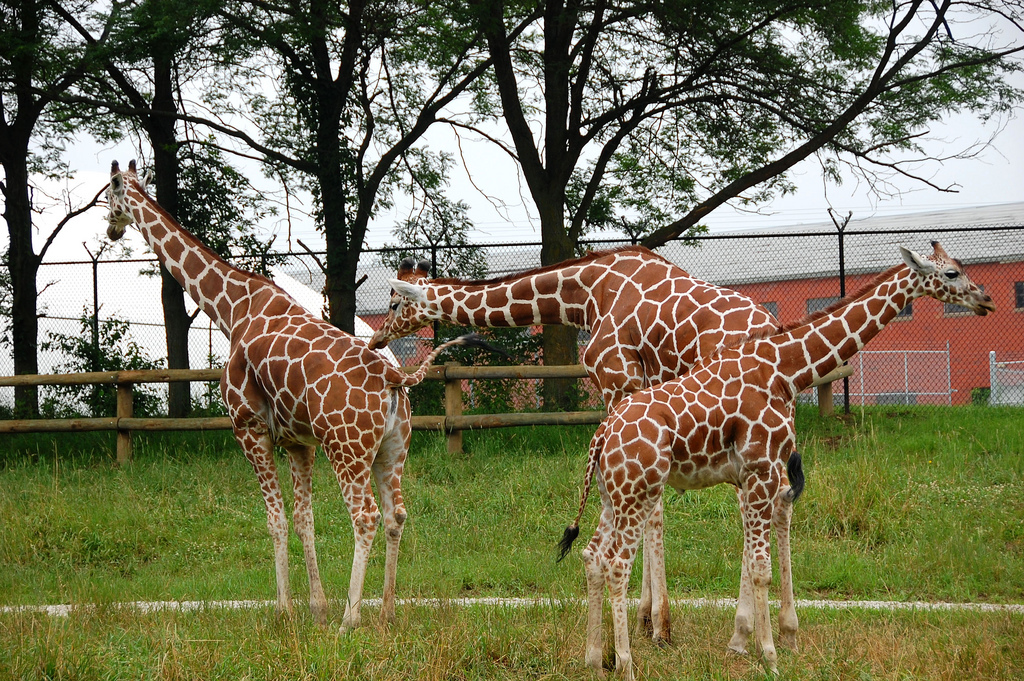giraffe: (555, 244, 1023, 661), (64, 147, 418, 655), (354, 256, 838, 405)
